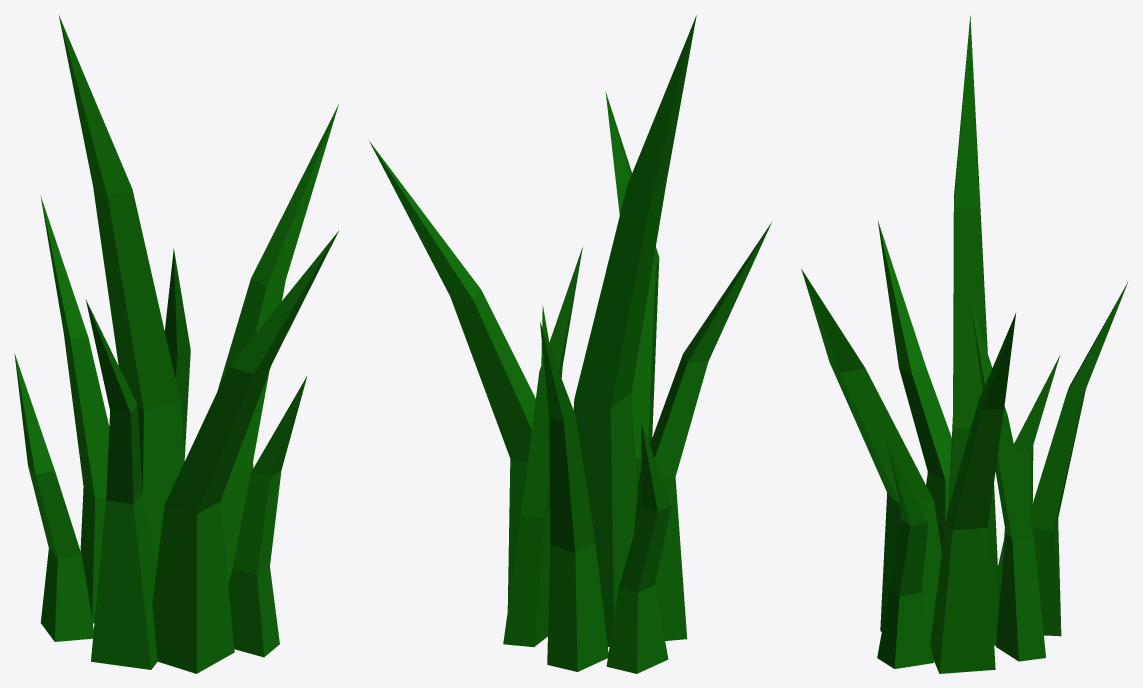
Rendered from Grass1.fbx.
3 renders of one model, left to right at view 1: azimuth 30°, elevation 25°; view 2: azimuth 150°, elevation 25°; view 3: azimuth 270°, elevation 25°, orthographic. The views are drawn at different scales.
Visible parts, largest first — view 1: Cube; view 2: Cube; view 3: Cube.
Boxes of the visible parts, left/top/right/bottom form: Cube: left=14, top=15, right=338, bottom=673; Cube: left=369, top=15, right=771, bottom=673; Cube: left=801, top=16, right=1128, bottom=673.
Bounding box in the file's own units: 12.89 × 23.99 × 12.33.
